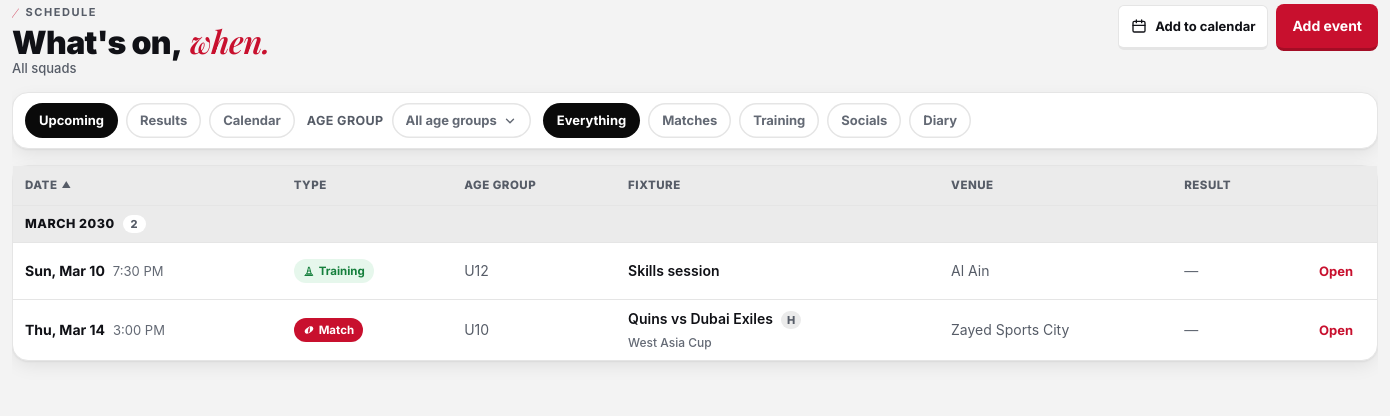
Test: ScheduleTable — results › shows played fixtures with their score on the Results tab
Check: the table with test id "schedule-table" is shown, box [13,166,1377,360]
Click the button "Results" at coordinates (164, 121), box [126,104,201,138]
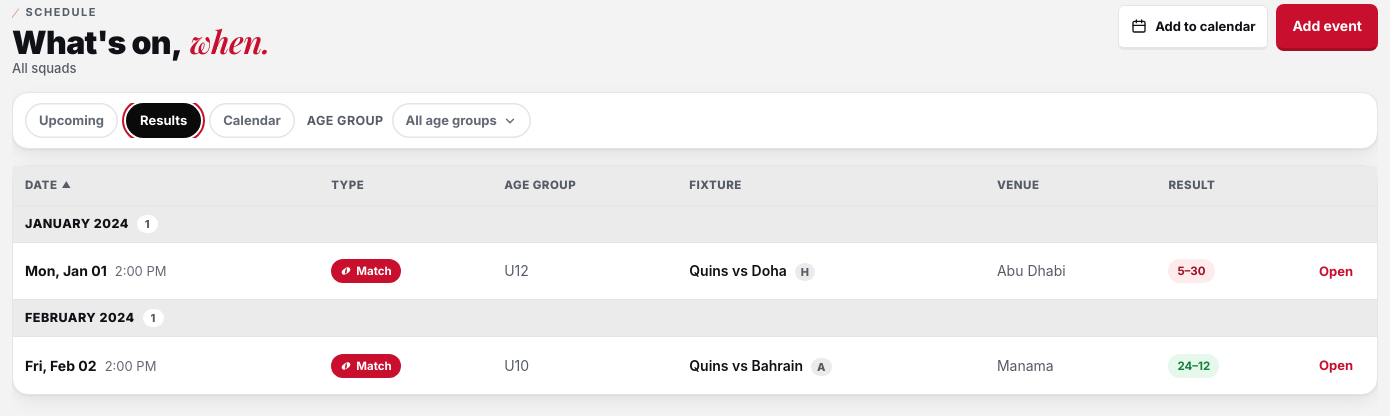
Check: the table with test id "schedule-table" shows "24–12", box [1177,359,1210,373]
Check: the table with test id "schedule-table" shows "5–30", box [1177,264,1206,278]
